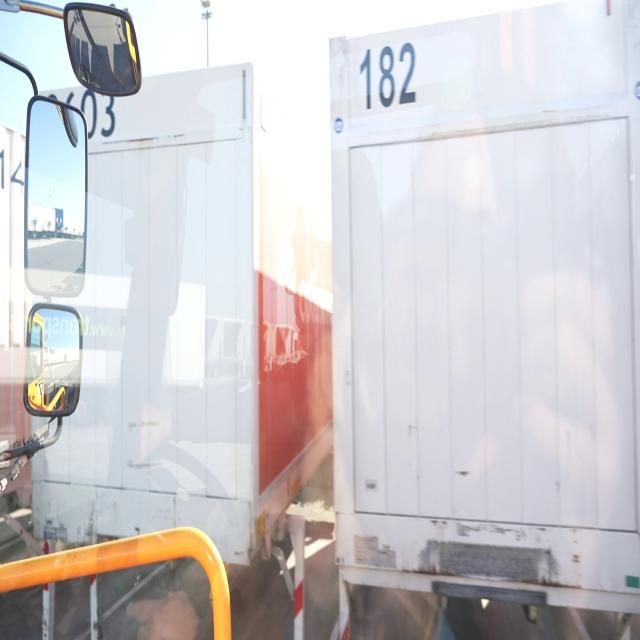Code: (357, 42, 421, 112)
